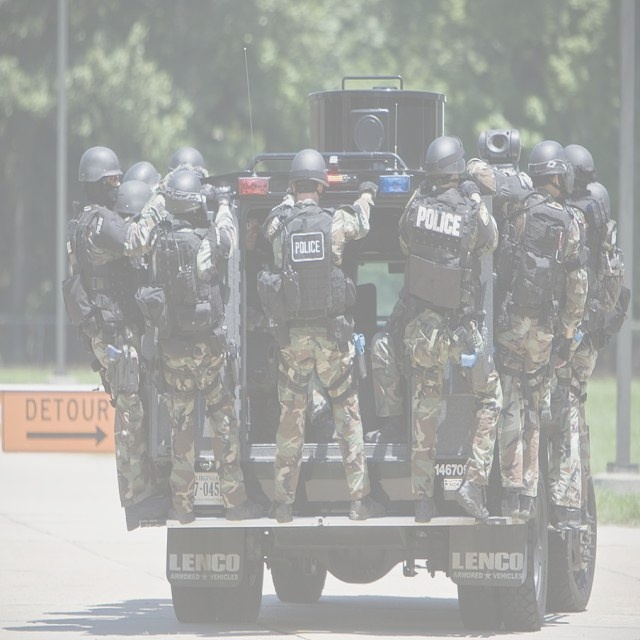pessoa: (464, 137, 592, 532), (254, 145, 384, 527), (142, 161, 270, 535), (60, 140, 168, 534), (396, 134, 504, 524), (548, 142, 616, 538), (115, 142, 212, 226), (368, 276, 416, 444), (236, 212, 274, 416)
